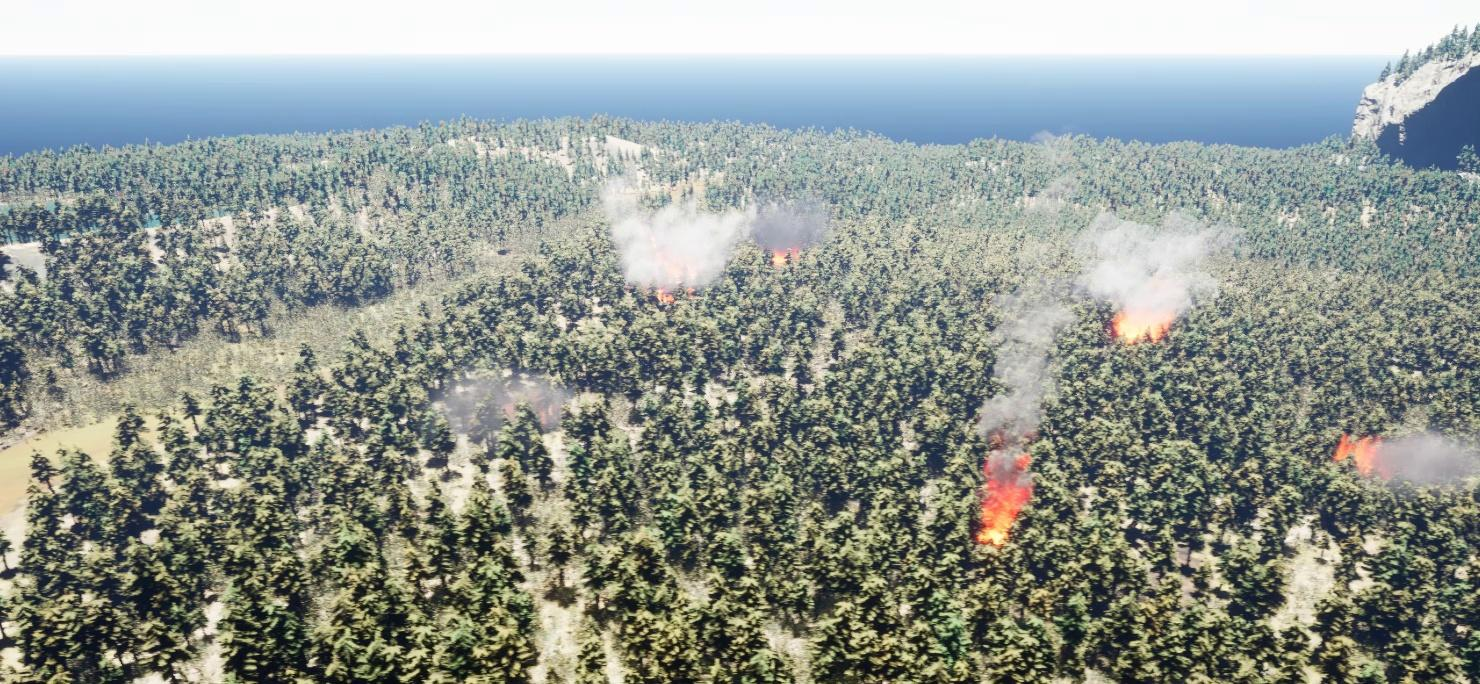fire: (981, 470, 1027, 555), (1327, 422, 1378, 473), (1112, 309, 1165, 345)
smoke: (601, 186, 819, 299), (968, 288, 1081, 450), (1083, 204, 1222, 329), (427, 363, 571, 445), (1360, 434, 1479, 488)
